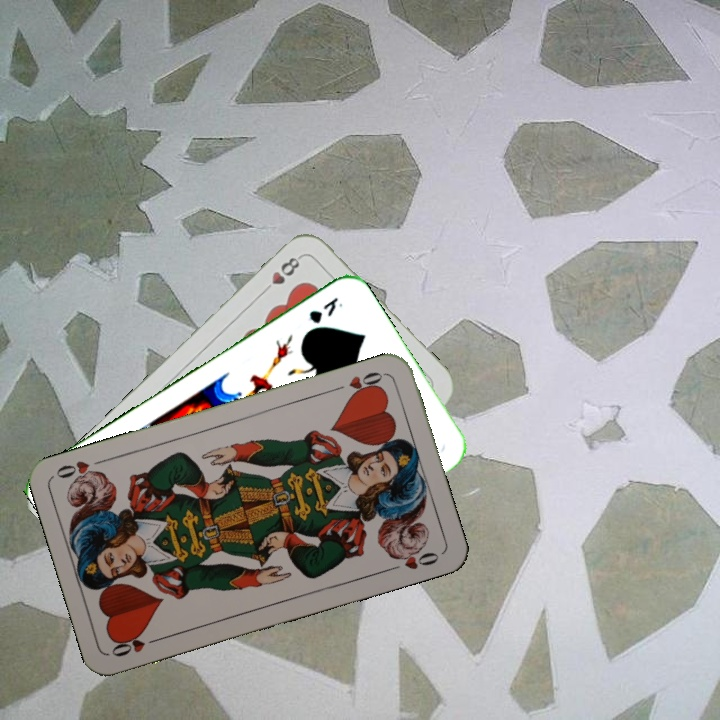GK: (305, 293, 341, 327)
H8: (257, 251, 305, 297)
HO: (330, 368, 387, 400), (107, 631, 165, 660)
